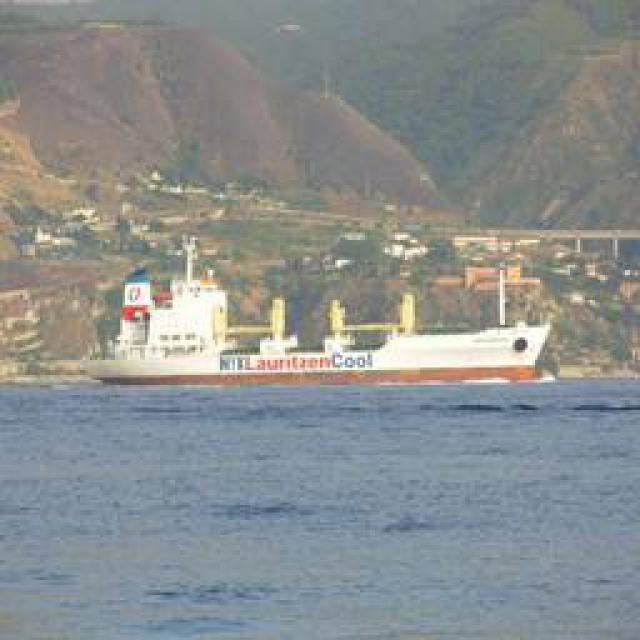Ship: (88, 300, 556, 390)
